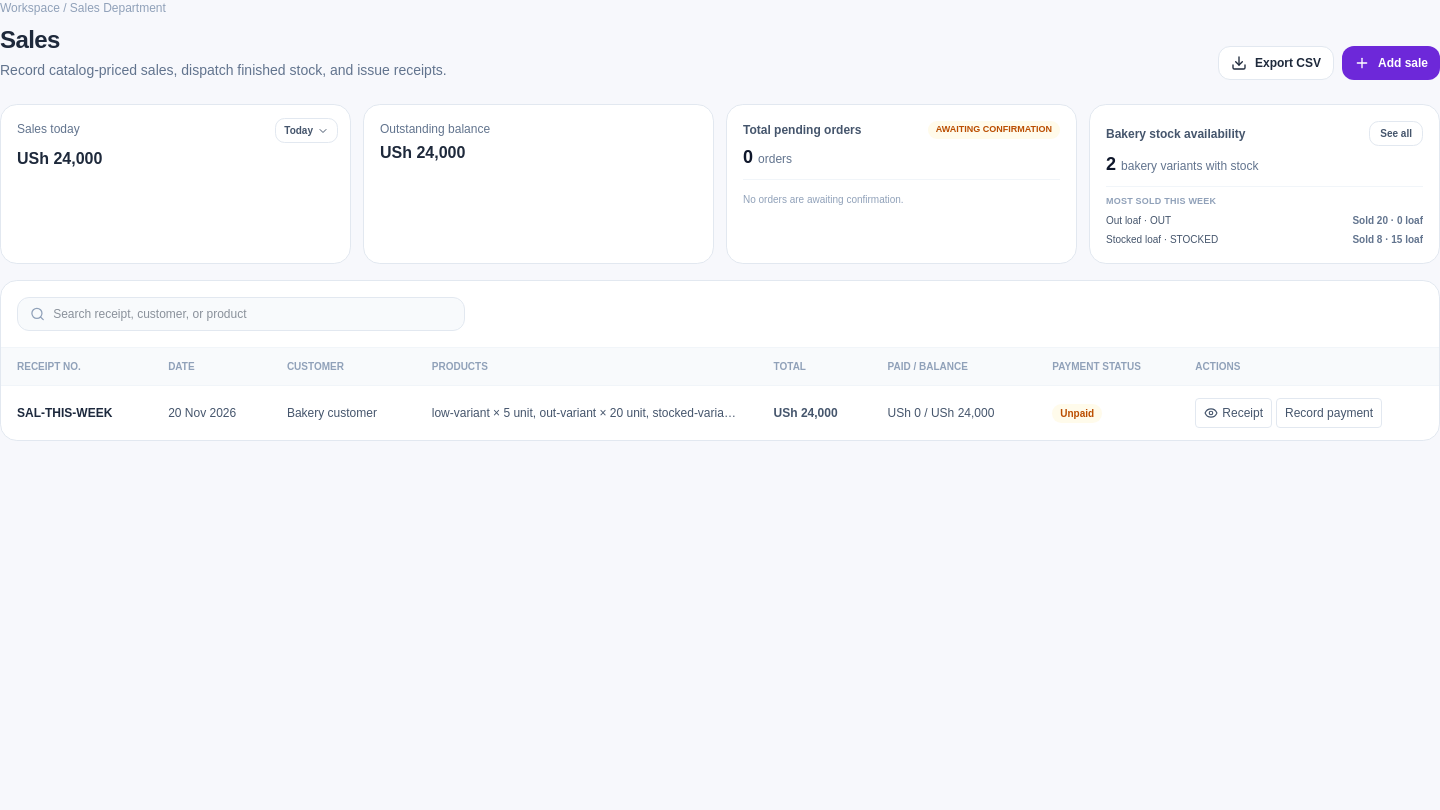
Test: sales stock guard › previews the two top-selling SKUs and shows all active stock states in the dialog
Later steps or results of the test are not shown.
Check: the list named "Top-selling bakery products this week" shows "Out loaf", box x1=1106 y1=214 x2=1141 y2=226
Check: the list named "Top-selling bakery products this week" shows "Stocked loaf", box x1=1106 y1=234 x2=1161 y2=244
Click the button "See all".
click(1396, 134)  # box x1=1369 y1=121 x2=1423 y2=146
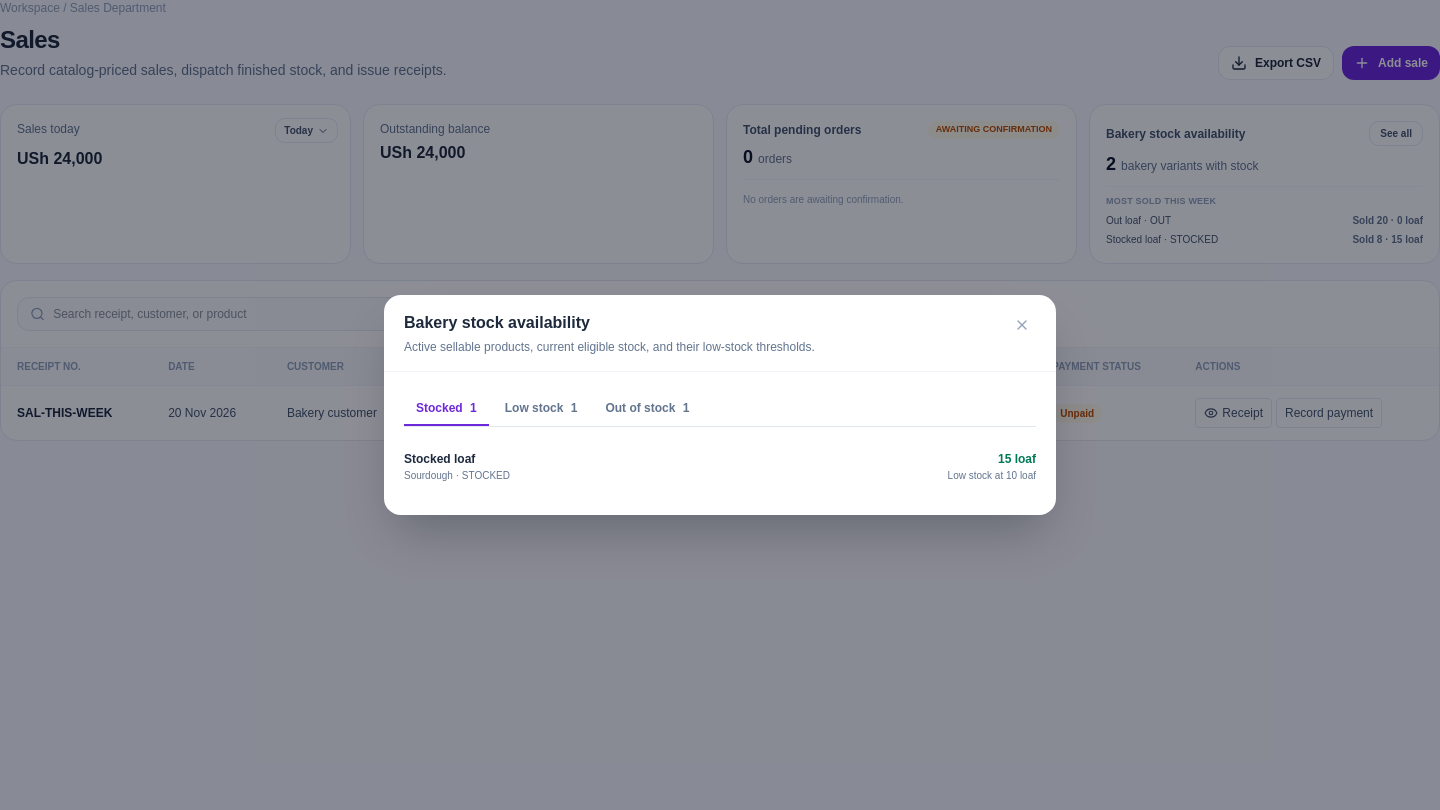
Check: the dialog "Bakery stock availability" shows "Stocked loaf", box x1=404 y1=452 x2=475 y2=466
Check: the dialog "Bakery stock availability" shows "Low stock at 10 loaf", box x1=384 y1=295 x2=1056 y2=515
Click the tab "Low stock 1".
click(541, 409)  # box x1=493 y1=392 x2=589 y2=426
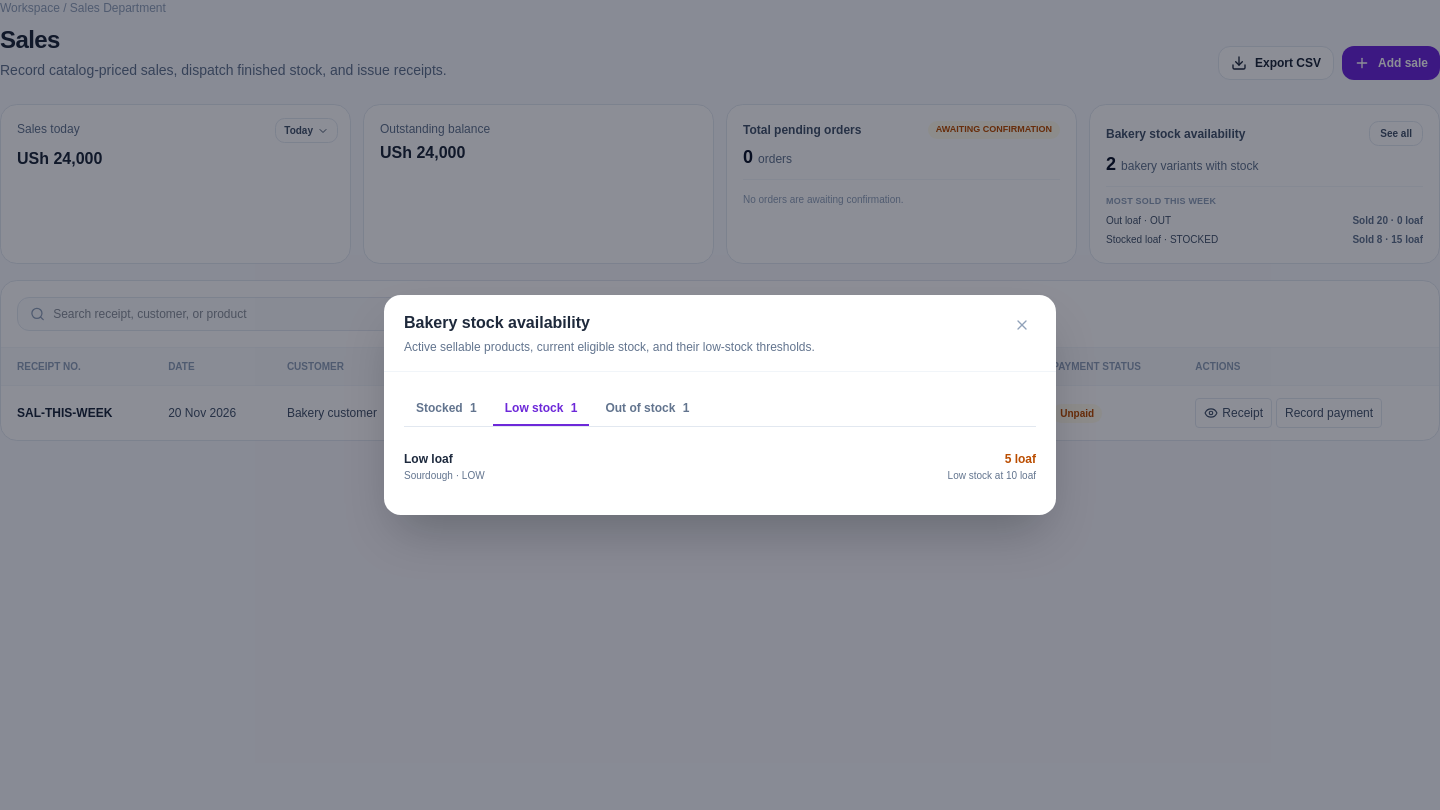
Check: the dialog "Bakery stock availability" does not show "Out loaf"
Check: the dialog "Bakery stock availability" shows "Low loaf", box x1=404 y1=452 x2=453 y2=466
Click the tab "Out of stock 1".
click(647, 409)  # box x1=593 y1=392 x2=701 y2=426
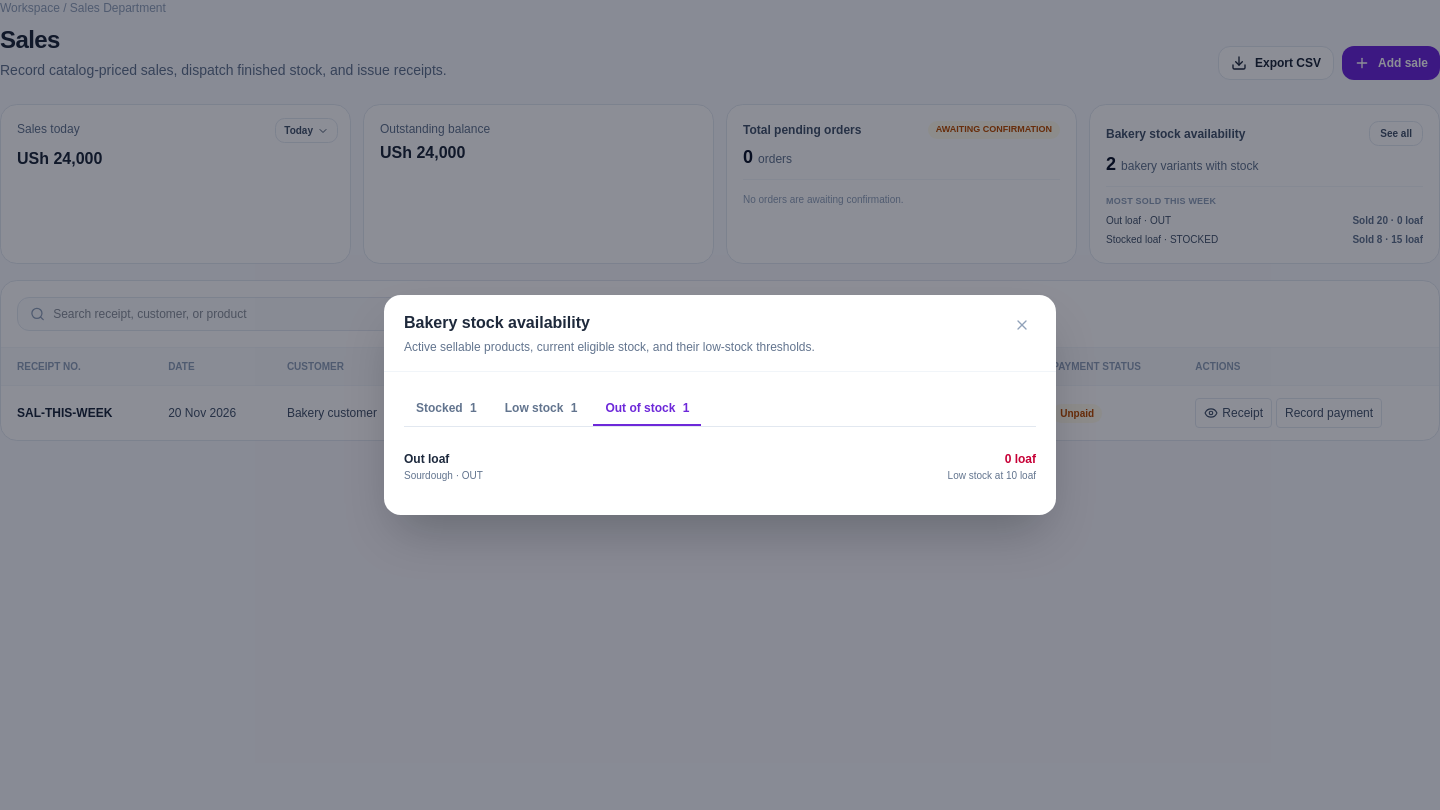
Check: the dialog "Bakery stock availability" shows "Out loaf", box x1=404 y1=452 x2=449 y2=466
Check: the text "Bakery stock availability" no longer shows "Low loaf"
